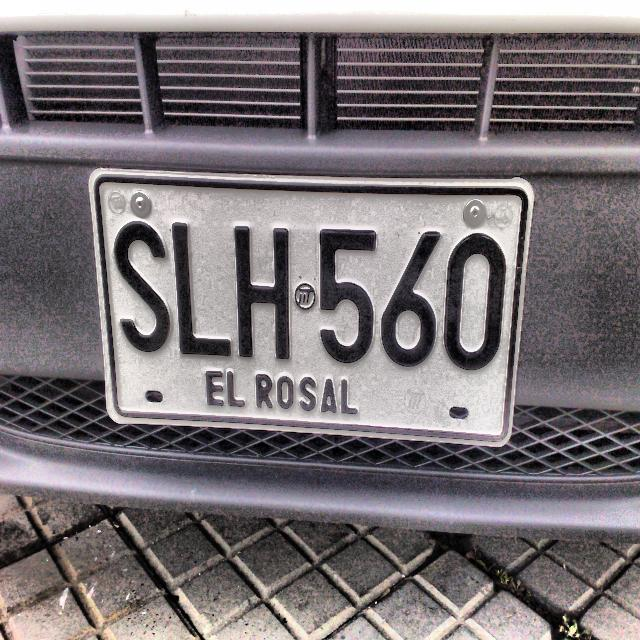plate: (88, 169, 536, 449)
